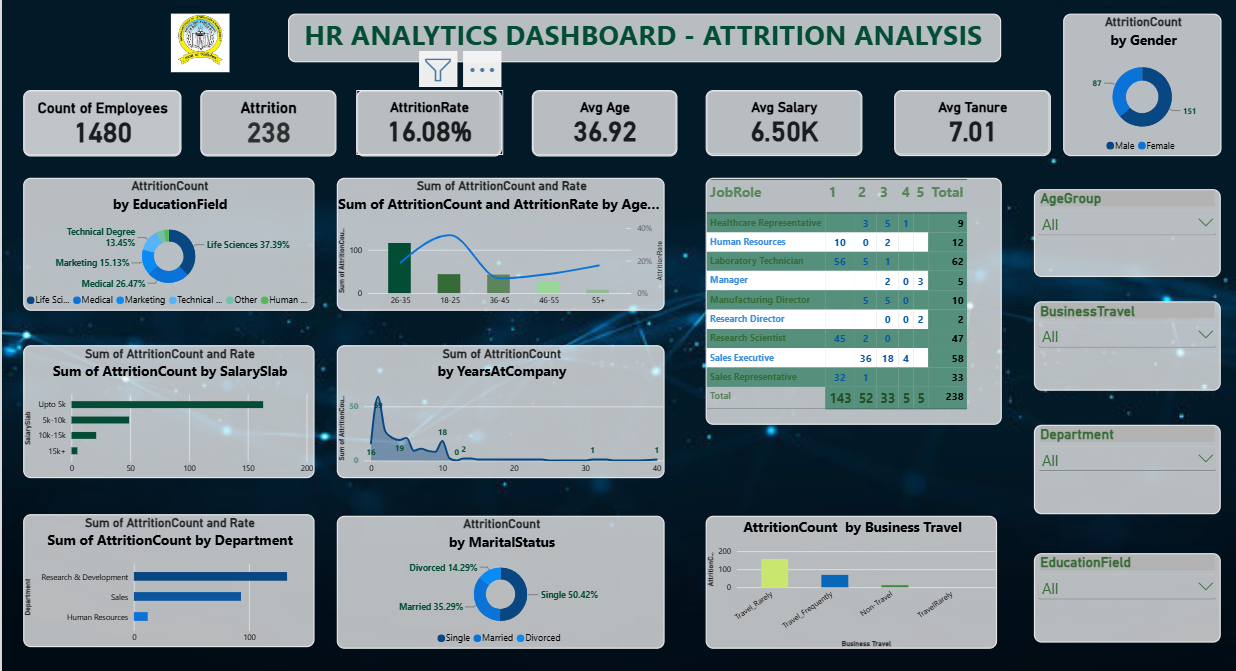

This screenshot's page, from the dashboard's own definition file:
{"tool":"powerbi","page":{"name":"Page 1","canvas":[1920,1080],"ordinal":0},"visuals":[{"type":"textbox","box":[444.5,22.7,1108.6,75.8],"z":0},{"type":"cardVisual","fields":{"Data":["CountNonNull(HR_Analytics.EmpID)"]},"box":[32,140.3,246.1,103.3],"z":1000},{"type":"cardVisual","fields":{"Data":["Sum(HR_Analytics.AttritionCount)"]},"box":[307.6,140.3,211.6,103.3],"z":2000},{"type":"cardVisual","fields":{"Data":["HR_Analytics.AttritionRate"]},"box":[551.2,140.3,226.4,103.3],"z":3000},{"type":"cardVisual","fields":{"Data":["Avg(HR_Analytics.Age)"]},"box":[824.3,140.3,226.4,103.3],"z":4000},{"type":"cardVisual","fields":{"Data":["Avg(HR_Analytics.MonthlyIncome)"]},"box":[1092.5,140.3,244,102.7],"z":5000},{"type":"cardVisual","fields":{"Data":["Avg(HR_Analytics.YearsAtCompany)"]},"box":[1385.3,140.3,244,102.7],"z":6000},{"type":"donutChart","fields":{"Category":["HR_Analytics.Gender"],"Y":["Sum(HR_Analytics.AttritionCount)"]},"box":[1648.6,22.1,246.1,221.5],"z":7000},{"type":"donutChart","fields":{"Category":["HR_Analytics.EducationField","HR_Analytics.YearsAtCompany"],"Y":["Sum(HR_Analytics.AttritionCount)"]},"box":[32,278,452.8,206.7],"z":8000},{"type":"lineStackedColumnComboChart","title":"Sum of AttritionCount and Rate","fields":{"Category":["HR_Analytics.AgeGroup"],"Y":["Sum(HR_Analytics.AttritionCount)"],"Y2":["HR_Analytics.AttritionRate"]},"box":[519.2,278,509.3,206.7],"z":9000},{"type":"pivotTable","fields":{"Columns":["HR_Analytics.JobLevel"],"Rows":["HR_Analytics.JobRole"],"Values":["Sum(HR_Analytics.AttritionCount)"]},"box":[1092.5,278,460.1,383.9],"z":10000},{"type":"barChart","title":"Sum of AttritionCount and Rate","fields":{"Category":["HR_Analytics.SalarySlab"],"Y":["Sum(HR_Analytics.AttritionCount)"]},"box":[32,538.9,452.8,206.7],"z":11000},{"type":"areaChart","fields":{"Category":["HR_Analytics.YearsAtCompany"],"Y":["Sum(HR_Analytics.AttritionCount)"]},"box":[519.2,538.9,509.3,206.7],"z":12000},{"type":"barChart","title":"Sum of AttritionCount and Rate","fields":{"Category":["HR_Analytics.Department"],"Y":["Sum(HR_Analytics.AttritionCount)"]},"box":[32,799.7,452.8,206.7],"z":13000},{"type":"donutChart","fields":{"Category":["HR_Analytics.MaritalStatus"],"Y":["Sum(HR_Analytics.AttritionCount)"]},"box":[519.2,802.2,509.3,206.7],"z":14000},{"type":"columnChart","fields":{"Category":["HR_Analytics.BusinessTravel"],"Y":["Sum(HR_Analytics.AttritionCount)"]},"box":[1092.5,802.2,452.8,206.7],"z":15000},{"type":"slicer","fields":{"Values":["HR_Analytics.AgeGroup"]},"box":[1603.6,295.5,290.4,136.4],"z":15001},{"type":"slicer","fields":{"Values":["HR_Analytics.BusinessTravel"]},"box":[1603.6,469.7,290.4,138.9],"z":15002},{"type":"slicer","fields":{"Values":["HR_Analytics.Department"]},"box":[1603.6,661.6,290.4,138.9],"z":15003},{"type":"slicer","fields":{"Values":["HR_Analytics.EducationField"]},"box":[1603.6,861.1,290.4,138.9],"z":15004},{"type":"image","box":[159.1,22.7,298,90.9],"z":15005}]}

Visuals, with their boxes in screenshot pixels (x1, y1, x2, y2):
textbox: rect(291, 14, 994, 62)
cardVisual - CountNonNull(HR_Analytics.EmpID): rect(30, 89, 186, 154)
cardVisual - Sum(HR_Analytics.AttritionCount): rect(205, 89, 339, 154)
cardVisual - HR_Analytics.AttritionRate: rect(359, 89, 503, 154)
cardVisual - Avg(HR_Analytics.Age): rect(532, 89, 676, 154)
cardVisual - Avg(HR_Analytics.MonthlyIncome): rect(702, 89, 857, 154)
cardVisual - Avg(HR_Analytics.YearsAtCompany): rect(888, 89, 1042, 154)
donutChart - HR_Analytics.Gender x Sum(HR_Analytics.AttritionCount): rect(1055, 14, 1211, 154)
donutChart - HR_Analytics.EducationField x HR_Analytics.YearsAtCompany: rect(30, 176, 317, 307)
"Sum of AttritionCount and Rate" lineStackedColumnComboChart: rect(339, 176, 662, 307)
pivotTable - HR_Analytics.JobLevel x HR_Analytics.JobRole: rect(702, 176, 994, 420)
"Sum of AttritionCount and Rate" barChart: rect(30, 342, 317, 473)
areaChart - HR_Analytics.YearsAtCompany x Sum(HR_Analytics.AttritionCount): rect(339, 342, 662, 473)
"Sum of AttritionCount and Rate" barChart: rect(30, 507, 317, 638)
donutChart - HR_Analytics.MaritalStatus x Sum(HR_Analytics.AttritionCount): rect(339, 508, 662, 639)
columnChart - HR_Analytics.BusinessTravel x Sum(HR_Analytics.AttritionCount): rect(702, 508, 989, 639)
slicer - HR_Analytics.AgeGroup: rect(1026, 187, 1210, 274)
slicer - HR_Analytics.BusinessTravel: rect(1026, 298, 1210, 386)
slicer - HR_Analytics.Department: rect(1026, 419, 1210, 507)
slicer - HR_Analytics.EducationField: rect(1026, 546, 1210, 634)
image: rect(110, 14, 299, 72)
